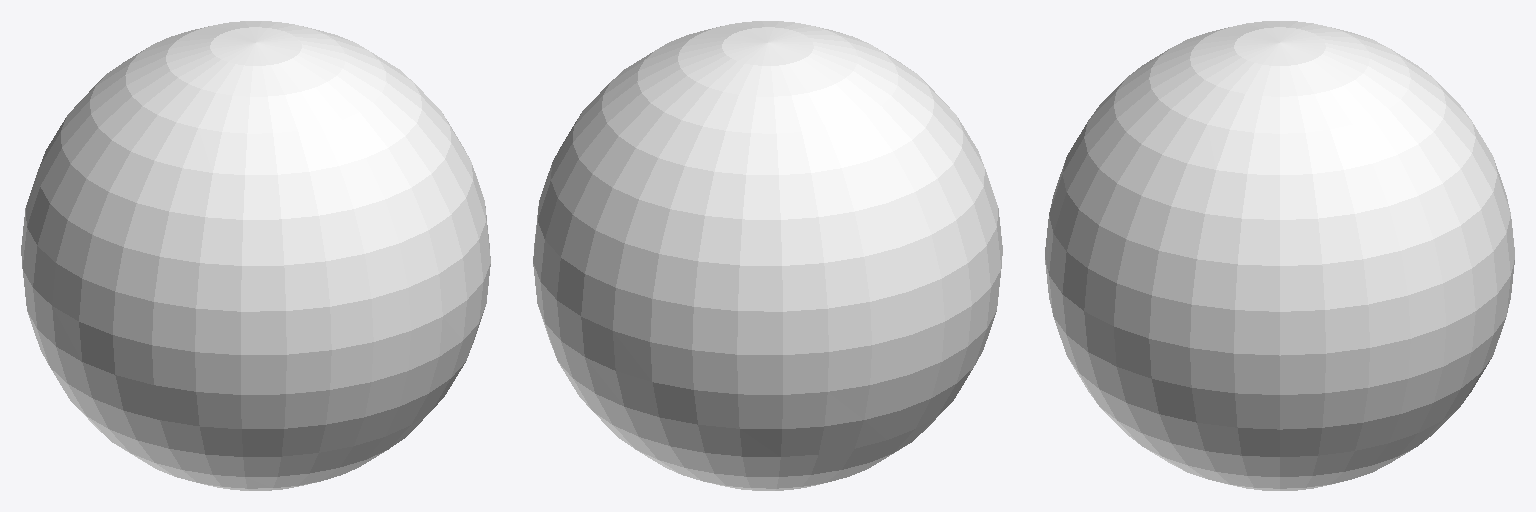
File: sphere_white.obj
3 views of the same model, side by side, from view 1: azimuth 30°, elevation 25°; view 2: azimuth 150°, elevation 25°; view 3: azimuth 270°, elevation 25° (orthographic).
Visible parts, largest first — view 1: Sphere001; view 2: Sphere001; view 3: Sphere001.
Part boxes in pixels (x1,y1,x2,y2): Sphere001: (21, 21, 490, 490); Sphere001: (533, 21, 1002, 490); Sphere001: (1045, 21, 1514, 490).
Size of the model in its own units: 2 by 2 by 2.